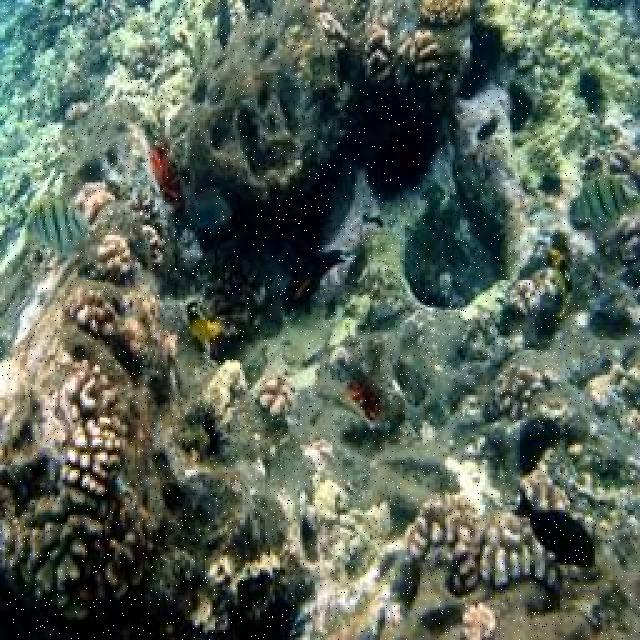fish: (573, 174, 638, 236), (23, 194, 89, 249)
reefs: (402, 487, 558, 594), (38, 357, 130, 495), (483, 365, 548, 422)
